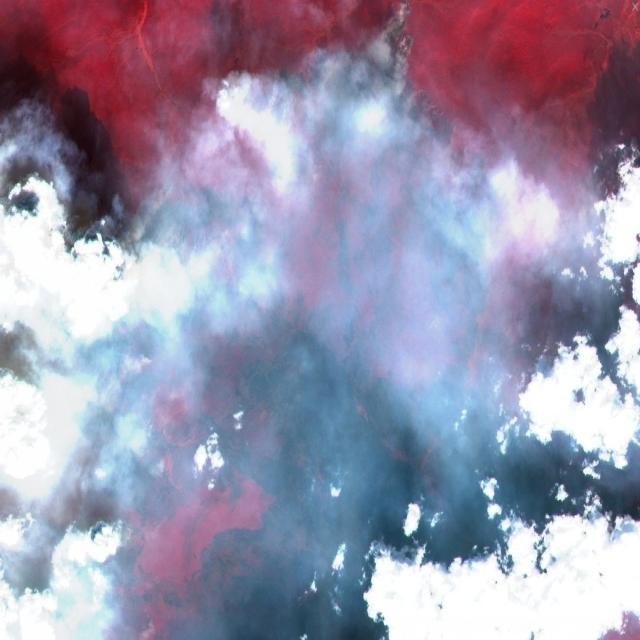fire: (0, 0, 504, 640), (514, 159, 640, 354)
